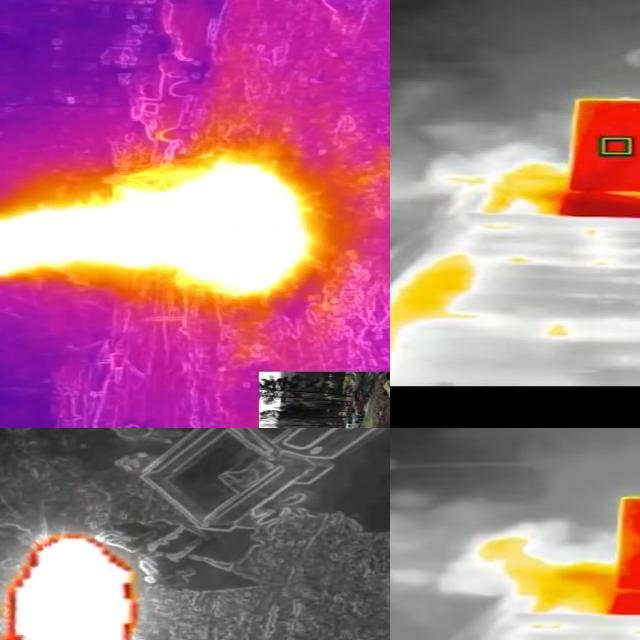fire: (1, 157, 319, 301), (1, 531, 143, 640), (481, 540, 626, 618), (390, 240, 479, 341), (483, 163, 569, 219)
